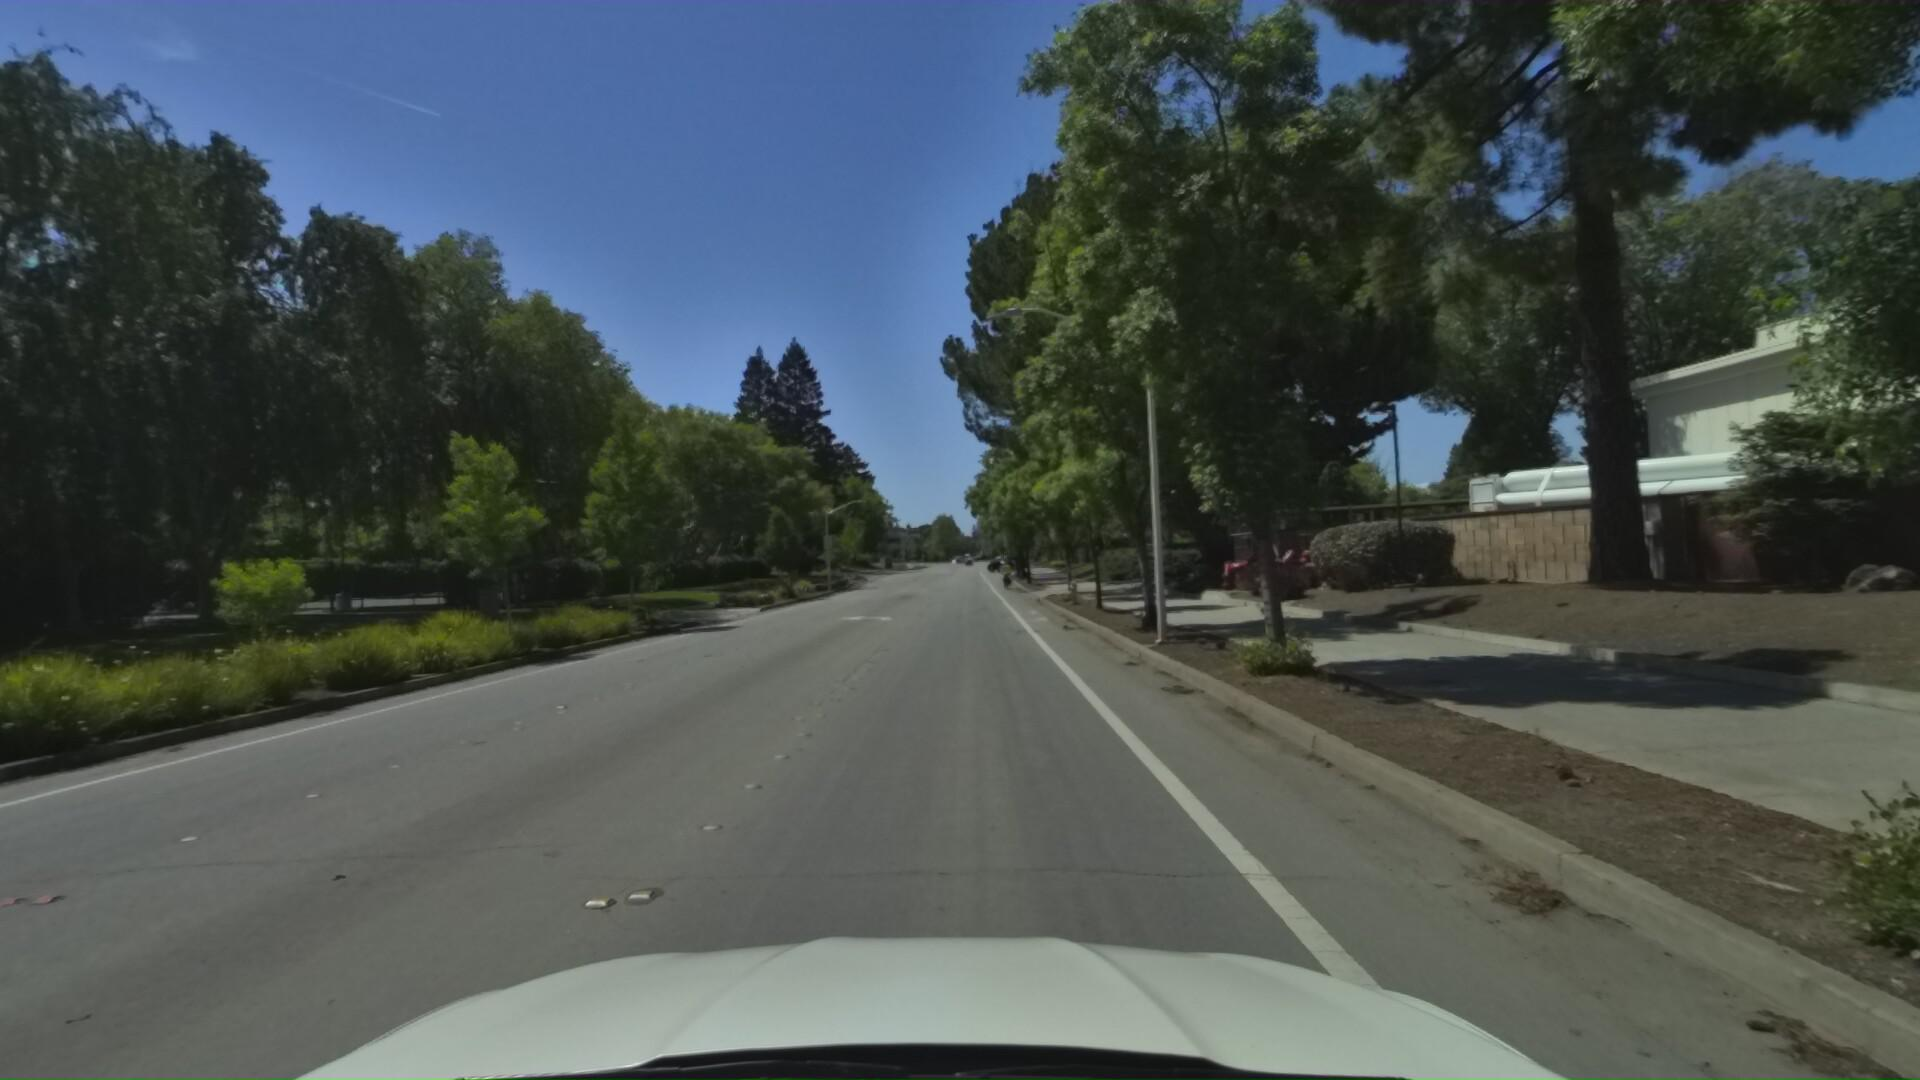bicycle: (996, 542, 1017, 578)
